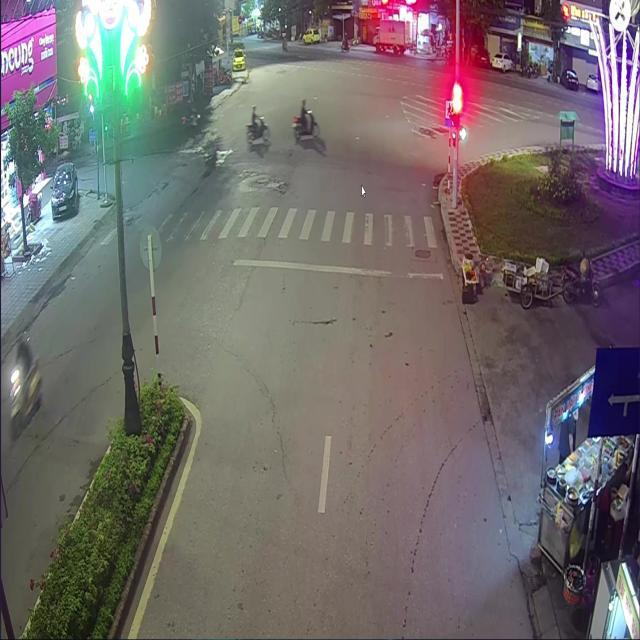motobike: (292, 107, 317, 140), (245, 113, 269, 144)
red_light: (452, 97, 459, 127)
stop_line: (231, 258, 442, 280)
